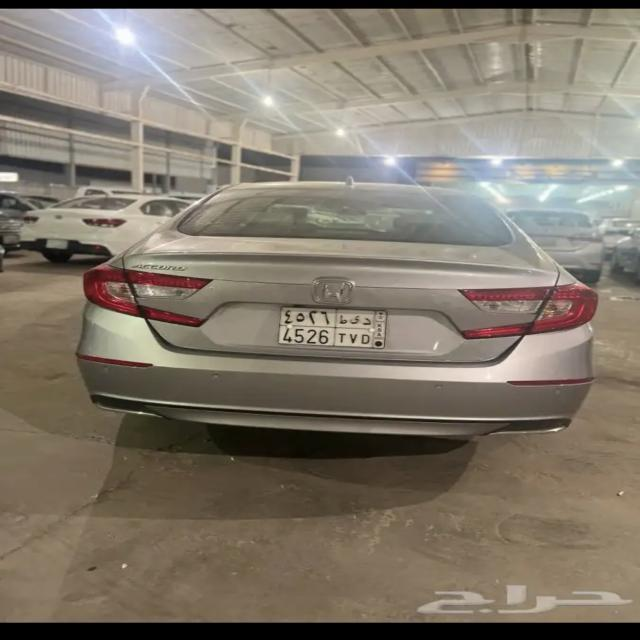license_plate: (279, 305, 387, 351)
